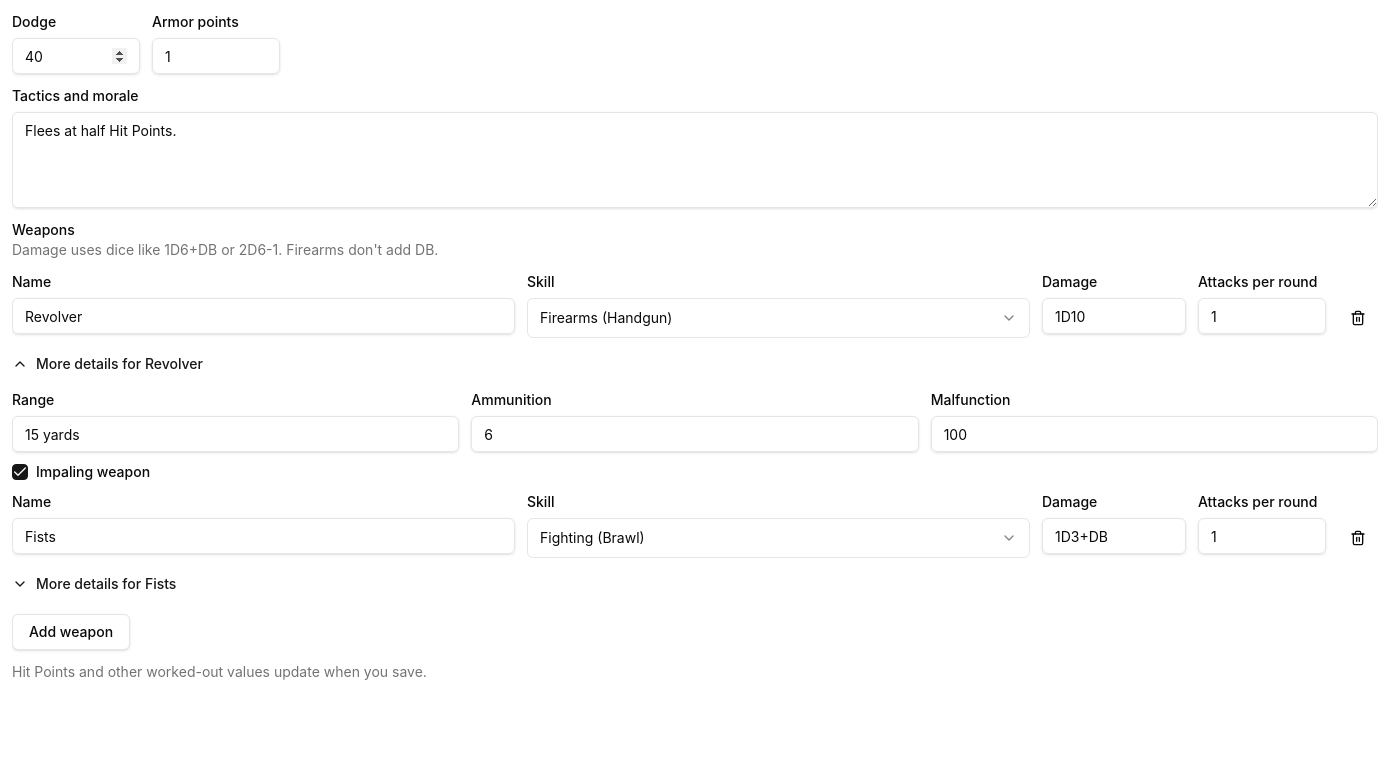
Test: NpcCombatFields › offers the profile's own skill rows, including unsaved ones, as the weapon Skill options (SP-UX-44)
Click the dropdown named "Skill": (606, 318) [527, 298, 1030, 338]
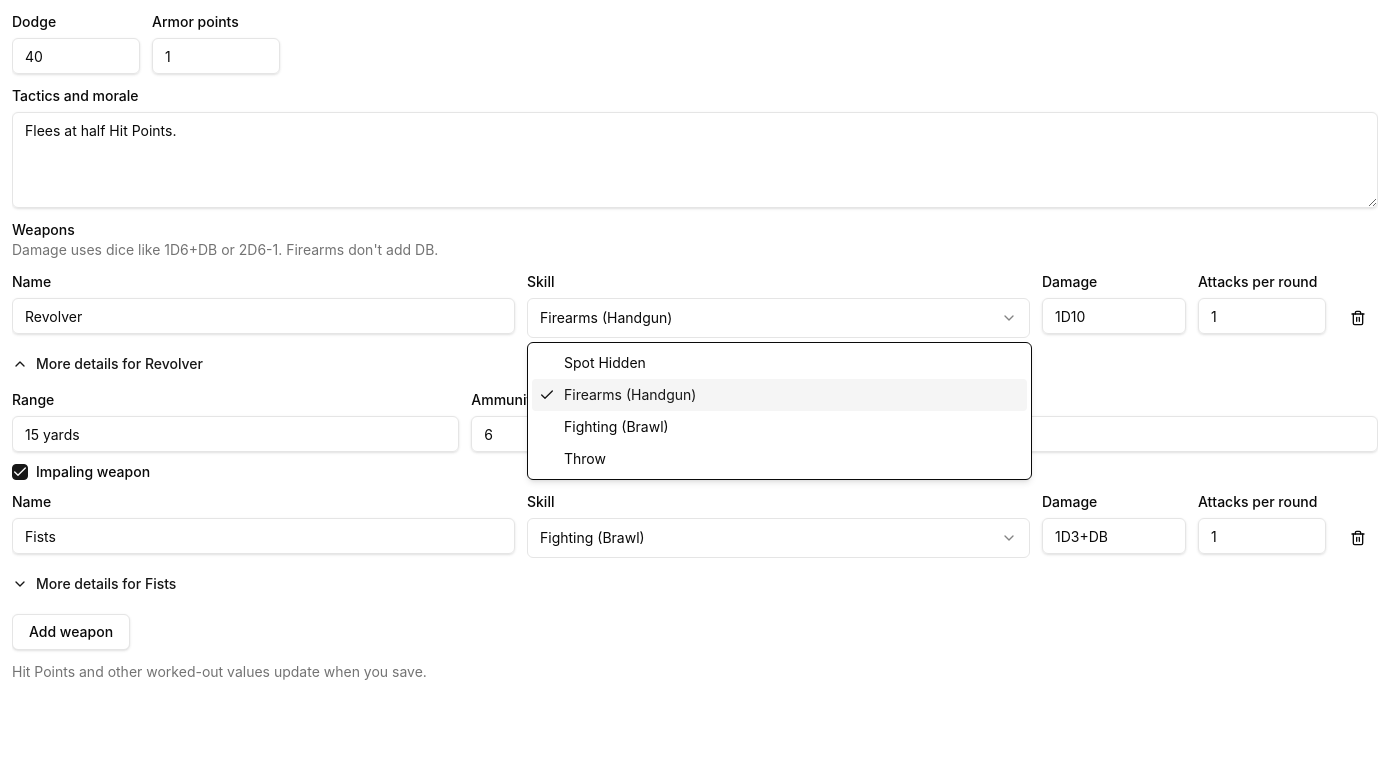
Expected: the options read "Spot Hidden", "Firearms (Handgun)", "Fighting (Brawl)", "Throw", in this order, [564, 354, 646, 371]; [532, 379, 1027, 411]; [564, 418, 669, 435]; [564, 450, 606, 467]
